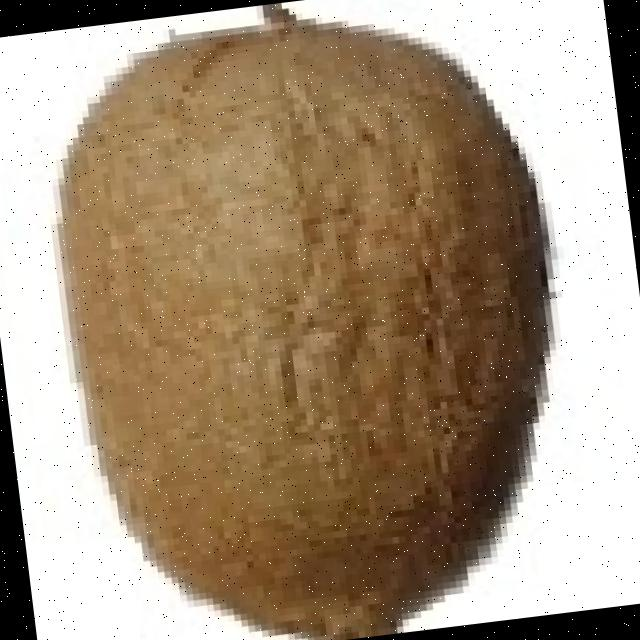kiwi: (52, 10, 534, 630)
